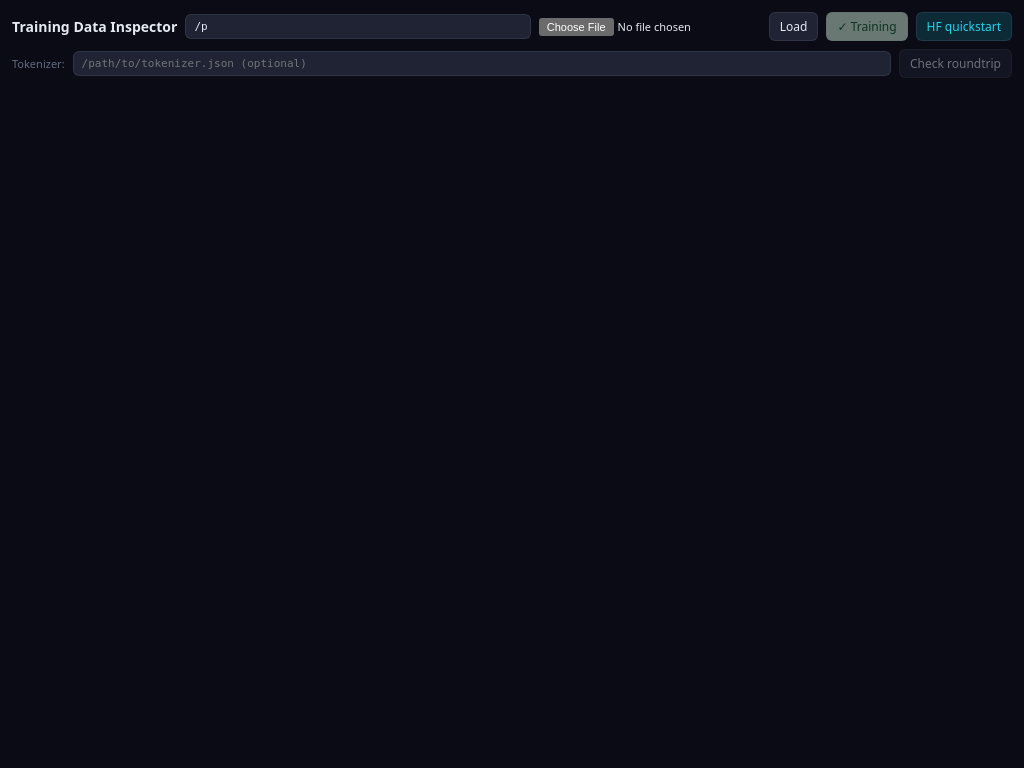
it: DataInspector › data-use-for-train shows ✓ Training when this path is active
What coordinates should you click on to do the following:
click the button with test id "data-load"
I would click on:
 (794, 26)
Its box is top-left (769, 12), bottom-right (818, 41).
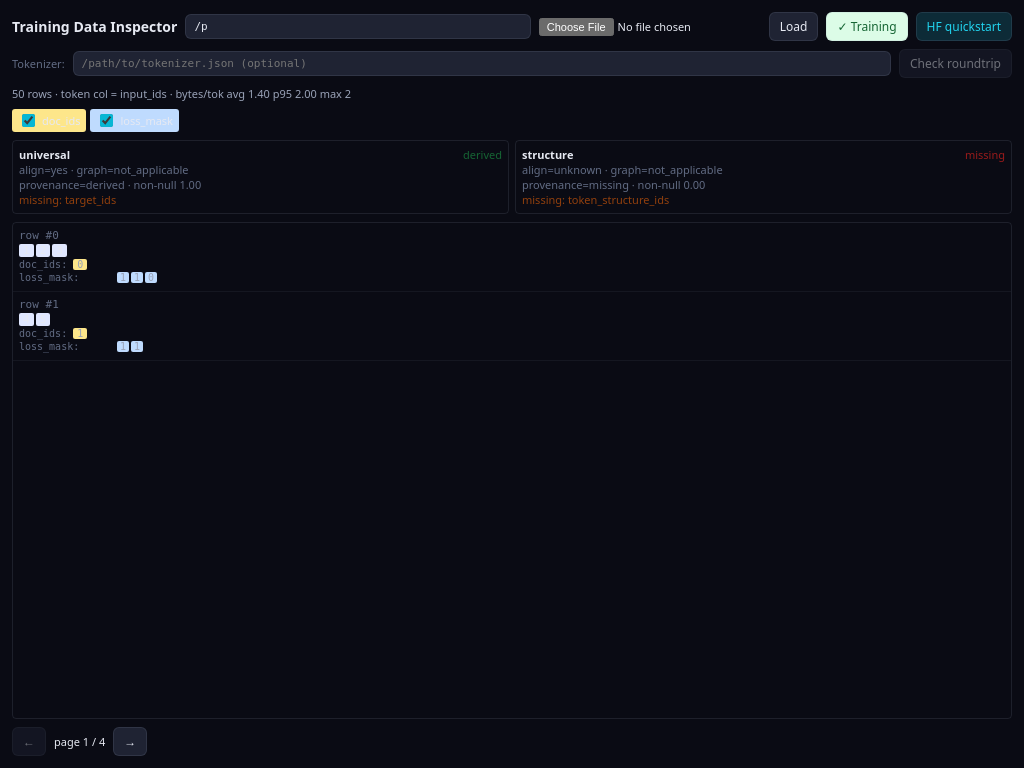
expect the button with test id "data-use-for-train" shows "Training": met, box top-left (826, 12), bottom-right (908, 41)
expect the text with test id "data-metrics" is shown: met, box top-left (12, 86), bottom-right (351, 101)
